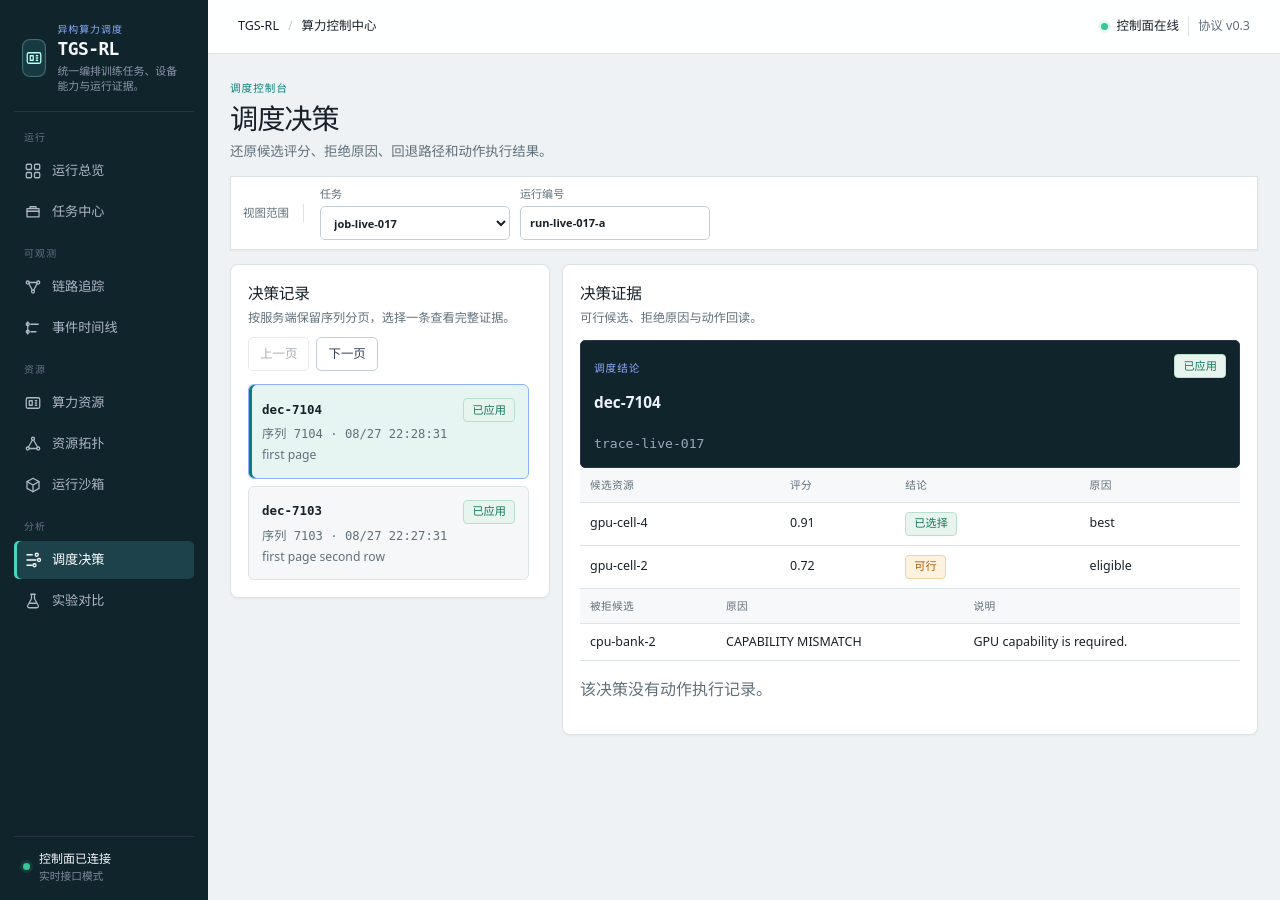
Test: DecisionExplorerPage › uses page token and selected decision to drive explorer fetches
Expected: the text "dec-7104" is shown, [262, 401, 322, 420]
Expected: the text "可行" is shown, [905, 555, 946, 579]
Click the button "dec-7103".
click(388, 533)  # box [248, 486, 529, 580]
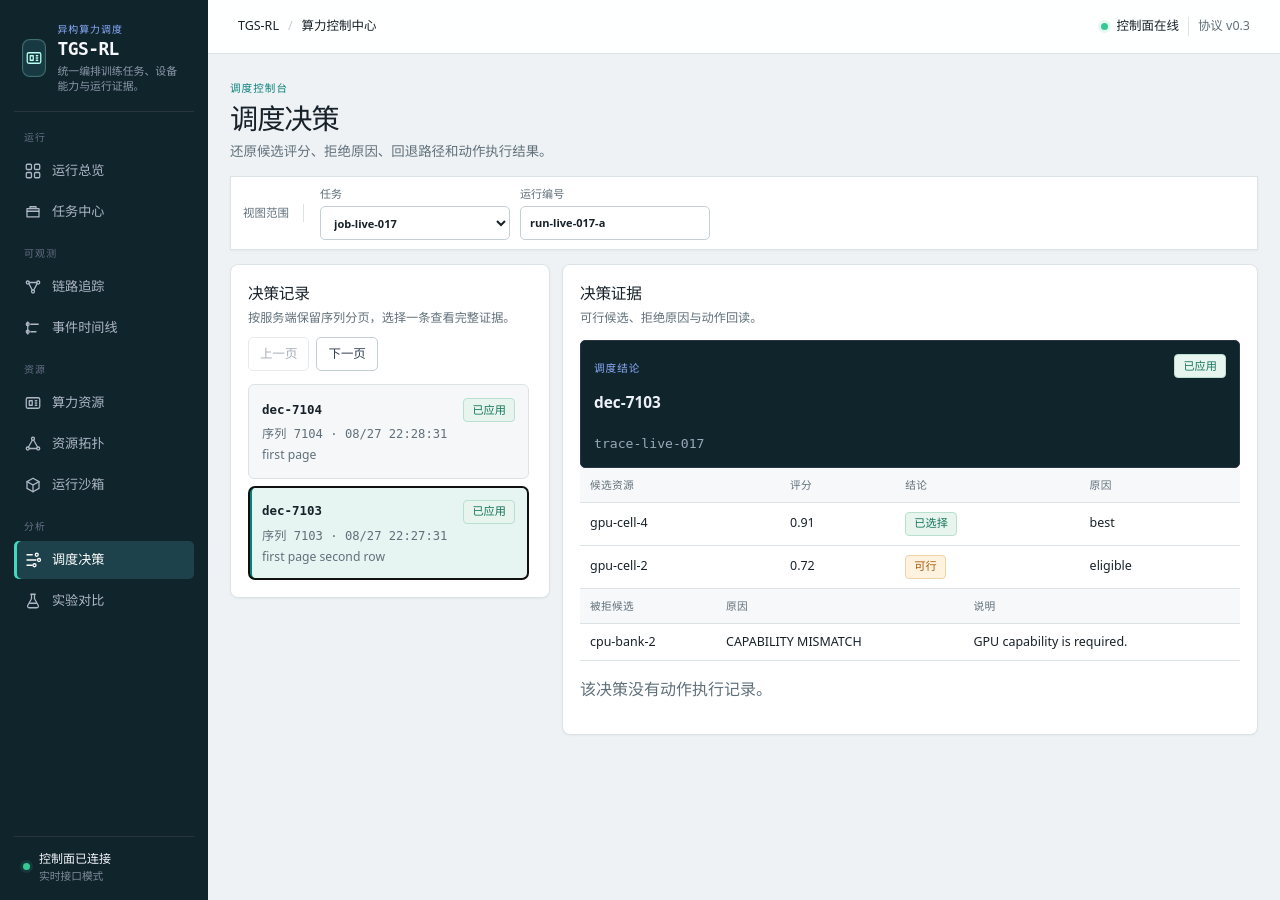
Now the button "dec-7103 已应用 序列 7103 · 08/27 22:27:31 first page second row" is pressed, box [248, 486, 529, 580]
Click the button "下一页".
click(347, 354)  # box [316, 337, 378, 371]
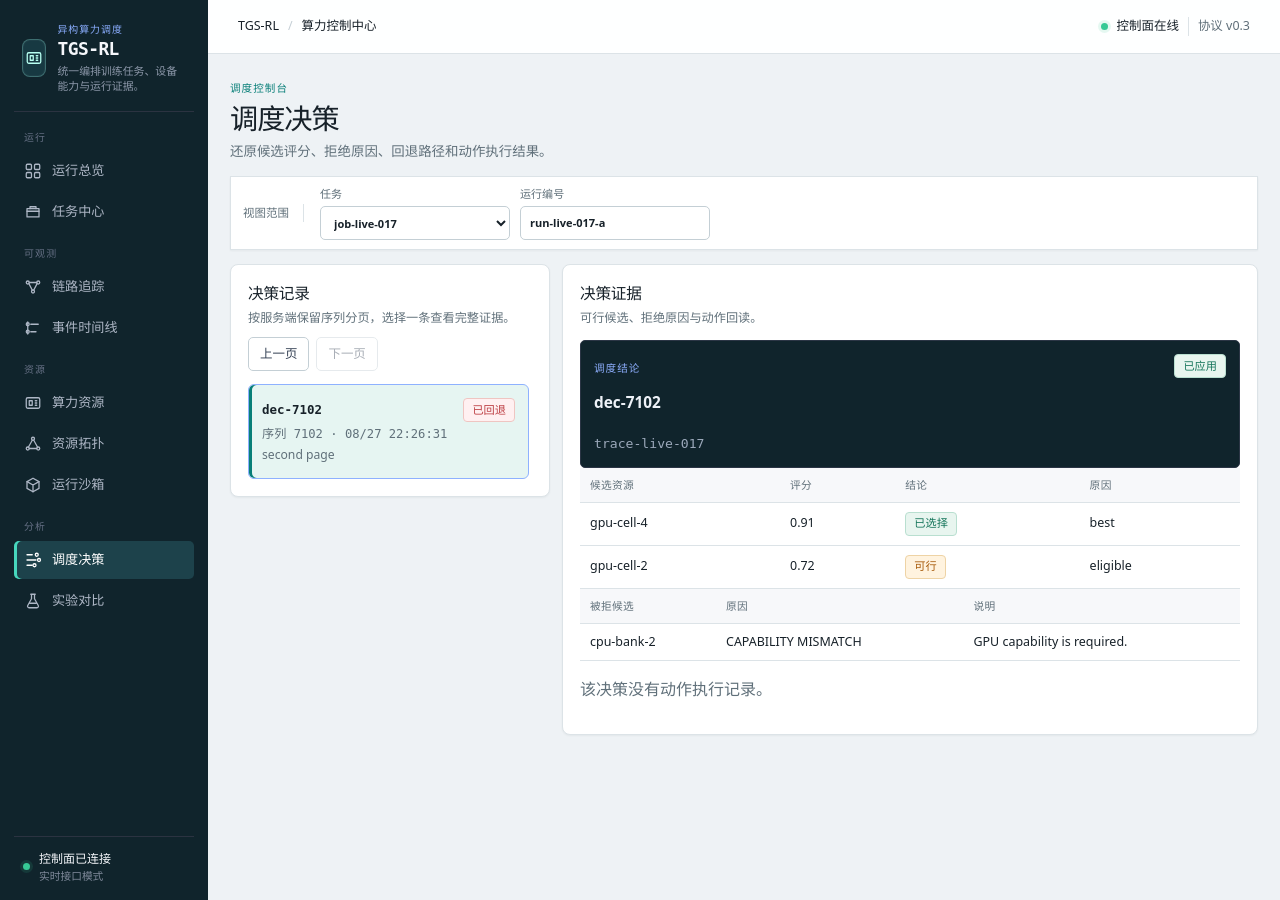
Now the button "上一页" is enabled, box [248, 337, 309, 371]
